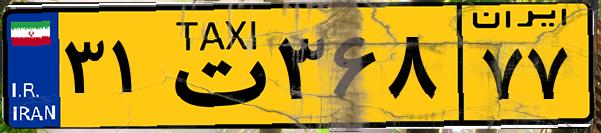1: (110, 28, 158, 98)
3: (270, 28, 330, 110), (57, 26, 110, 100)
6: (330, 28, 385, 110)
7: (475, 38, 525, 113), (525, 38, 570, 115)
8: (385, 28, 445, 110)
ت: (158, 12, 270, 120)
